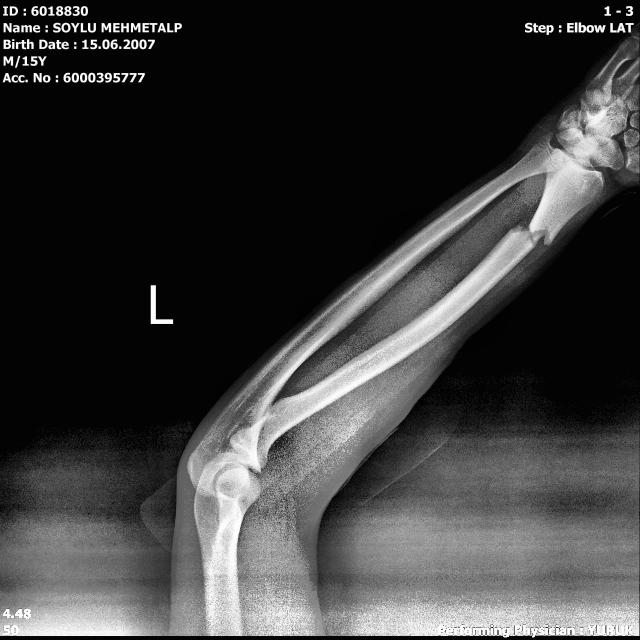Fracture: (502, 209, 560, 257)
